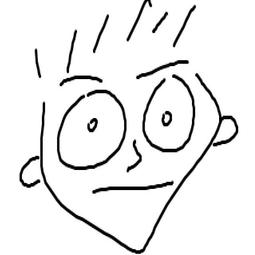ear: (209, 112, 241, 153), (16, 154, 44, 188)
eye: (53, 87, 129, 173), (140, 74, 197, 161)
eyebrow: (57, 71, 104, 87)
frowning_eyebrow: (130, 56, 190, 79)
line_unsmiling_mouth: (91, 179, 176, 197)
pointy_nose: (124, 139, 144, 172)
